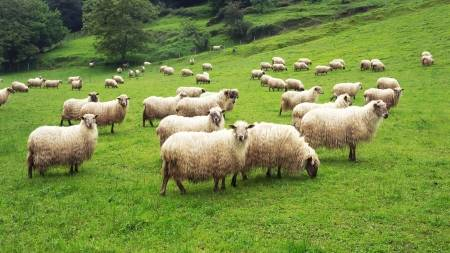sheep: (158, 120, 251, 192), (304, 100, 390, 161), (250, 117, 322, 182), (27, 113, 103, 174), (155, 105, 230, 138), (82, 95, 133, 131), (141, 91, 189, 113), (278, 85, 323, 106), (2, 82, 15, 109), (267, 76, 286, 92), (285, 77, 305, 91), (11, 81, 30, 95), (371, 59, 388, 74), (417, 54, 438, 66), (313, 64, 334, 76), (43, 78, 63, 90), (193, 73, 211, 85), (103, 77, 119, 90), (292, 60, 310, 71), (69, 77, 84, 90), (270, 63, 289, 73), (249, 67, 266, 78), (27, 77, 43, 87), (179, 69, 195, 77), (163, 66, 175, 75), (201, 62, 214, 70), (112, 74, 126, 81)
